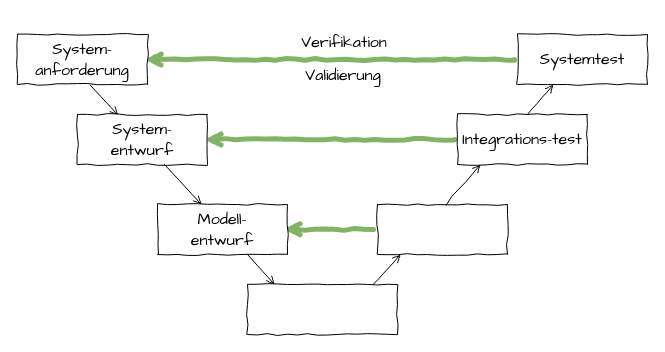
Image size: 665x352. Some labels were removed from this diagram. The centre of each missing label's shape, as x and y in pixels:
"Implementierung" belongs at (322,309).
"Unittest" belongs at (442,229).
